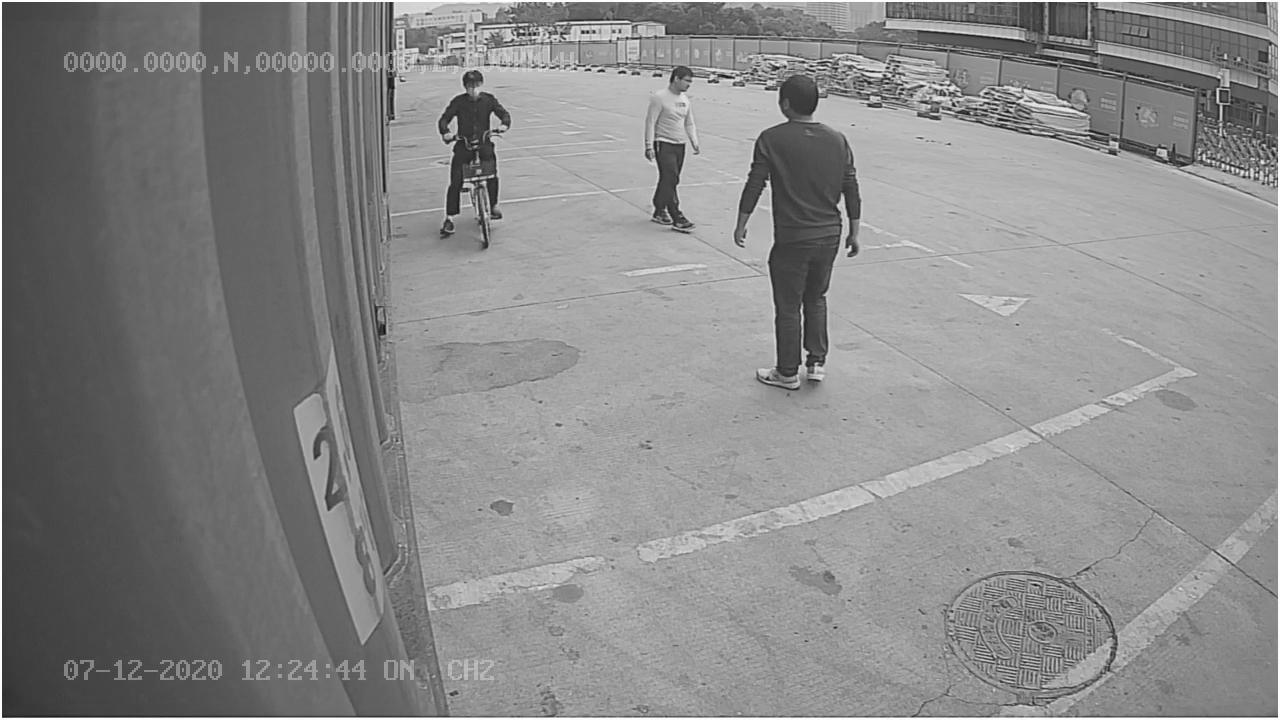person: (727, 69, 868, 395), (640, 62, 707, 234)
